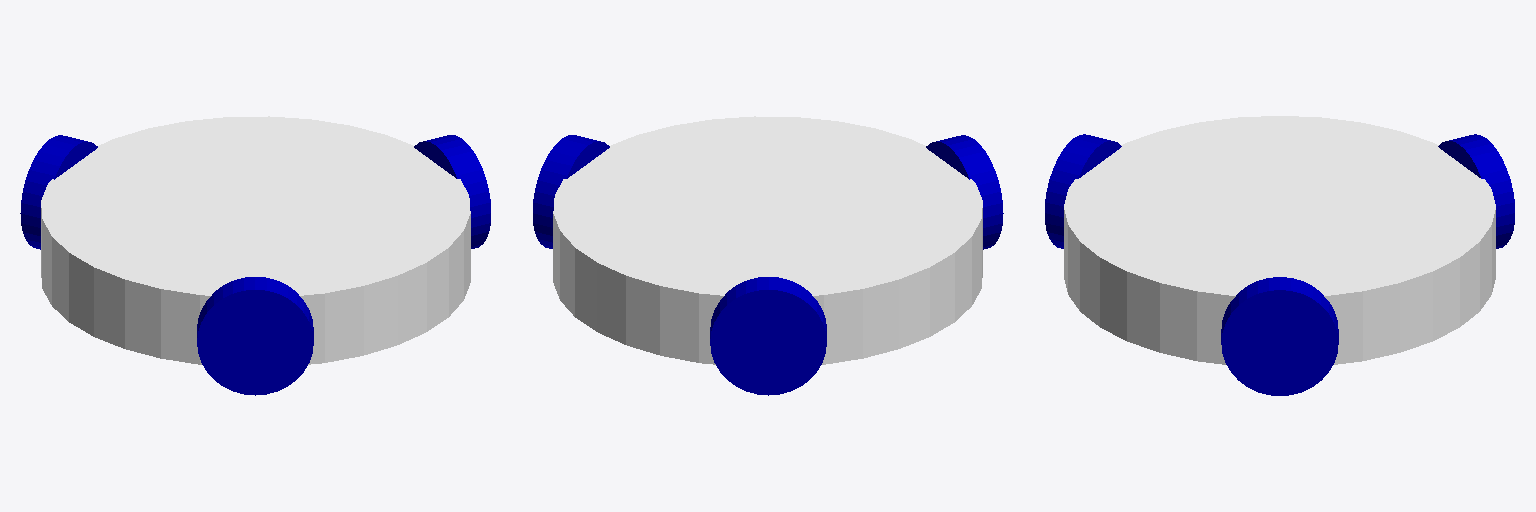
robot.urdf — diode_robot:
<?xml version="1.0" ?>
<robot name="diode_robot">

    <link name="base_link">
        <visual>
            <origin xyz=" 0 0 0.076" rpy="0 0 0" />
            <geometry>
                <cylinder length="0.1" radius="0.28"/>
            </geometry>
            <material name="white">
                <color rgba="1 1 1 1"/>
            </material>
        </visual>
    </link>   

    <link name="front_wheel">
        <visual>
            <origin rpy="0 1.57 0" xyz="0 0 0"/>
            <geometry>
                <cylinder length="0.04" radius="0.076"/>
            </geometry>
            <material name="black">
                <color rgba="0 0 0.8 1"/>
            </material>
        </visual>
    </link>

    <link name="left_wheel">
        <visual>
            <origin rpy="0 1.57 -1.05" xyz="0 0 0"/>
            <geometry>
                <cylinder length="0.04" radius="0.076"/>
            </geometry>
            <material name="blue">
                <color rgba="0 0 0.8 1"/>
            </material>
        </visual>
    </link>

    <link name="right_wheel">
        <visual>
            <origin rpy="0 1.57 1.05" xyz="0 0 0"/>
            <geometry>
                <cylinder length="0.04" radius="0.076"/>
            </geometry>
            <material name="blue">
                <color rgba="0 0 0.8 1"/>
            </material>
        </visual>
    </link>

    <joint name="base_to_front_wheel" type="fixed">
        <parent link="base_link"/>
        <child link="front_wheel"/>
        <origin rpy="0 0 0" xyz="0.29 0 0.076"/>
    </joint>

    <joint name="base_to_left_wheel" type="fixed">
        <parent link="base_link"/>
        <child link="left_wheel"/>
        <origin rpy="0 0 0" xyz="-0.145 0.25 0.076"/>
    </joint>

    <joint name="base_to_right_wheel" type="fixed">
        <parent link="base_link"/>
        <child link="right_wheel"/>
        <origin rpy="0 0 0" xyz="-0.145 -0.25 0.076"/>
    </joint>

    </robot>

--- Render facts (derived) ---
Views: 3 orthographic renders of the robot side by side, from view 1: azimuth 30°, elevation 25°; view 2: azimuth 150°, elevation 25°; view 3: azimuth 270°, elevation 25°.
Robot: diode_robot — 4 links, 3 joints (3 fixed); root link base_link; default pose: every joint at zero.
Visible links, largest first — view 1: base_link, right_wheel, front_wheel, left_wheel; view 2: base_link, left_wheel, front_wheel, right_wheel; view 3: base_link, front_wheel, left_wheel, right_wheel.
Boxes of the visible links, x1,y1,x2,y2 form: base_link: (41,116,470,364); right_wheel: (197,277,313,395); front_wheel: (414,135,490,248); left_wheel: (20,135,97,249); base_link: (553,116,982,364); left_wheel: (710,277,826,395); front_wheel: (533,135,609,248); right_wheel: (926,135,1003,249); base_link: (1064,116,1495,364); front_wheel: (1221,277,1338,395); left_wheel: (1438,134,1514,248); right_wheel: (1045,134,1121,248).
Size in the robot's own frame: 0.5901 by 0.6103 by 0.152 metres.
Geometry: primitives only (box / cylinder / sphere), no mesh files.